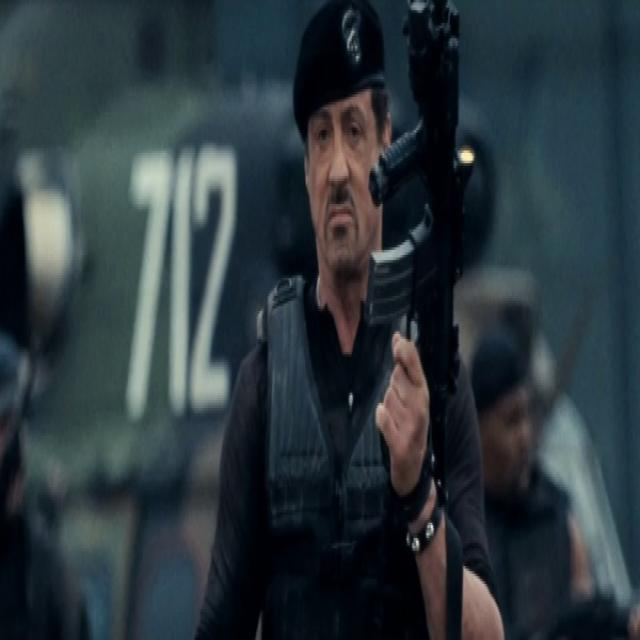rifle: (366, 1, 468, 460)
